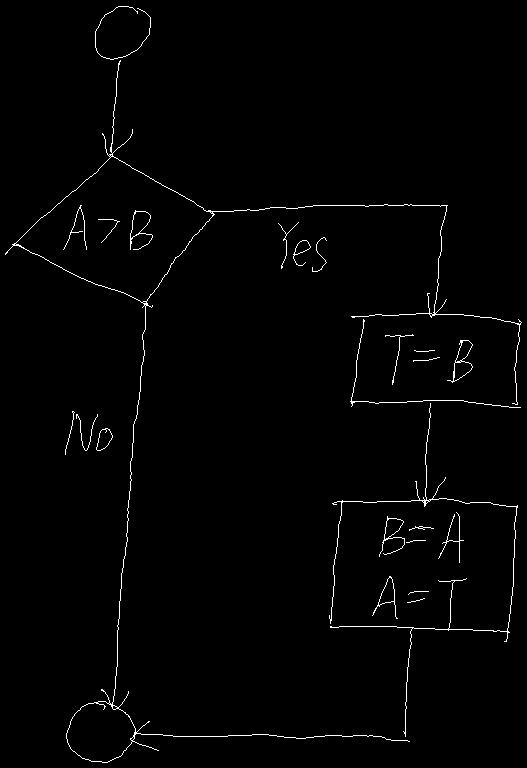arrow: (130, 627, 412, 750), (208, 204, 447, 317), (101, 301, 147, 709), (415, 403, 445, 506), (102, 60, 132, 156)
connection: (66, 701, 135, 762), (95, 6, 150, 59)
decision: (5, 154, 214, 307)
process: (329, 498, 517, 641), (350, 313, 521, 407)
text: (372, 512, 466, 630), (385, 334, 472, 384), (63, 205, 152, 249), (278, 222, 326, 271), (65, 411, 112, 454)
